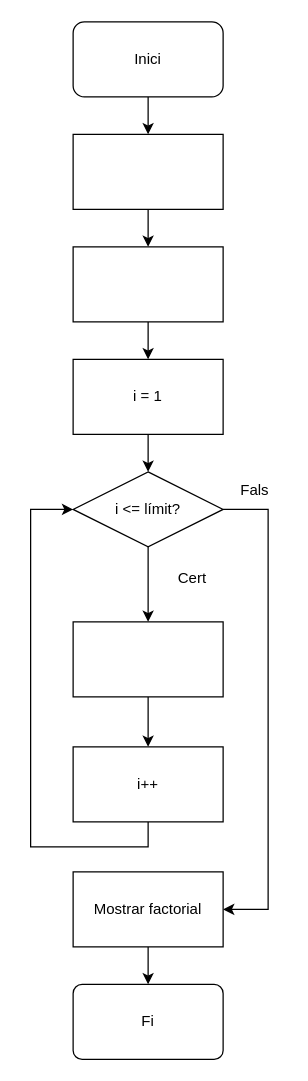
This 308x1081 diagram has some shape labels left out. Here are the shapes that lost their labels. From the top down, the centre of each, then its label:
At point 147,171: "Demanar límit".
At point 147,284: "factorial = 1".
At point 147,659: "factorial *= i".
